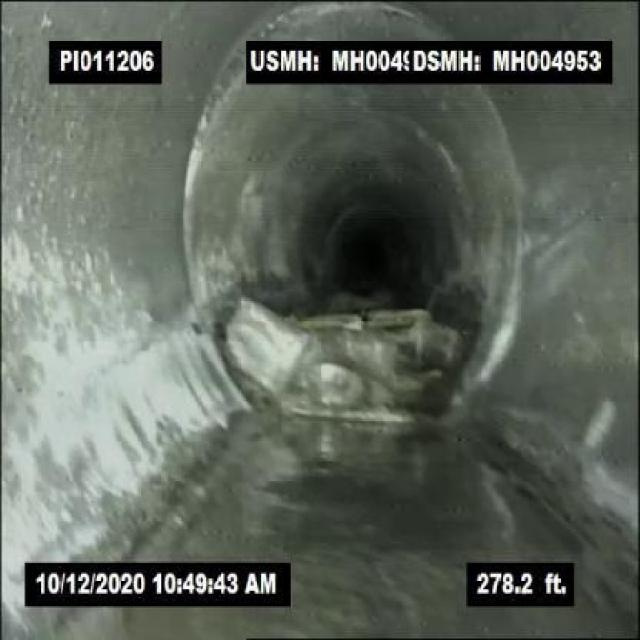Crack: (78, 314, 184, 398)
Obstacle: (227, 298, 478, 428)
